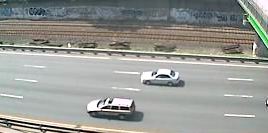car: (83, 93, 140, 122), (139, 67, 182, 89)
